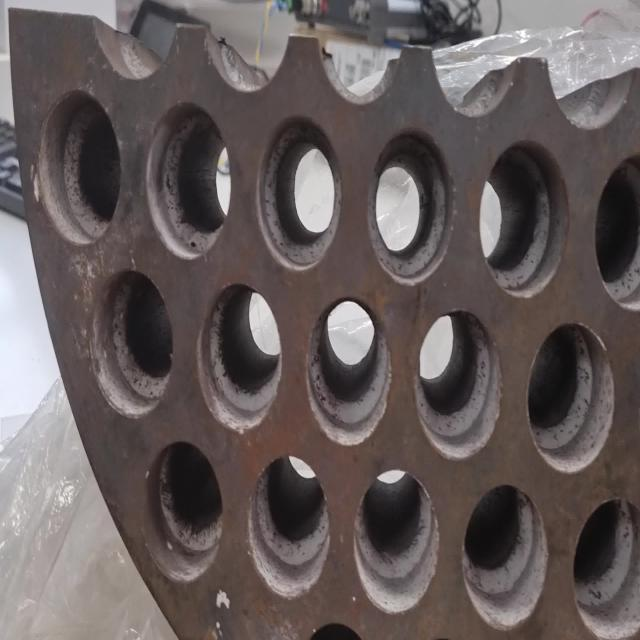Hole: (479, 140, 569, 299), (145, 102, 232, 260), (33, 89, 121, 245), (526, 322, 616, 474), (256, 115, 342, 272), (367, 128, 453, 284), (414, 308, 502, 460), (304, 297, 392, 446), (196, 282, 282, 434), (461, 483, 549, 631), (353, 468, 440, 616), (90, 269, 173, 418), (247, 454, 331, 600), (146, 439, 222, 584), (572, 497, 640, 639), (594, 154, 640, 312), (288, 618, 375, 640), (400, 634, 482, 640)
